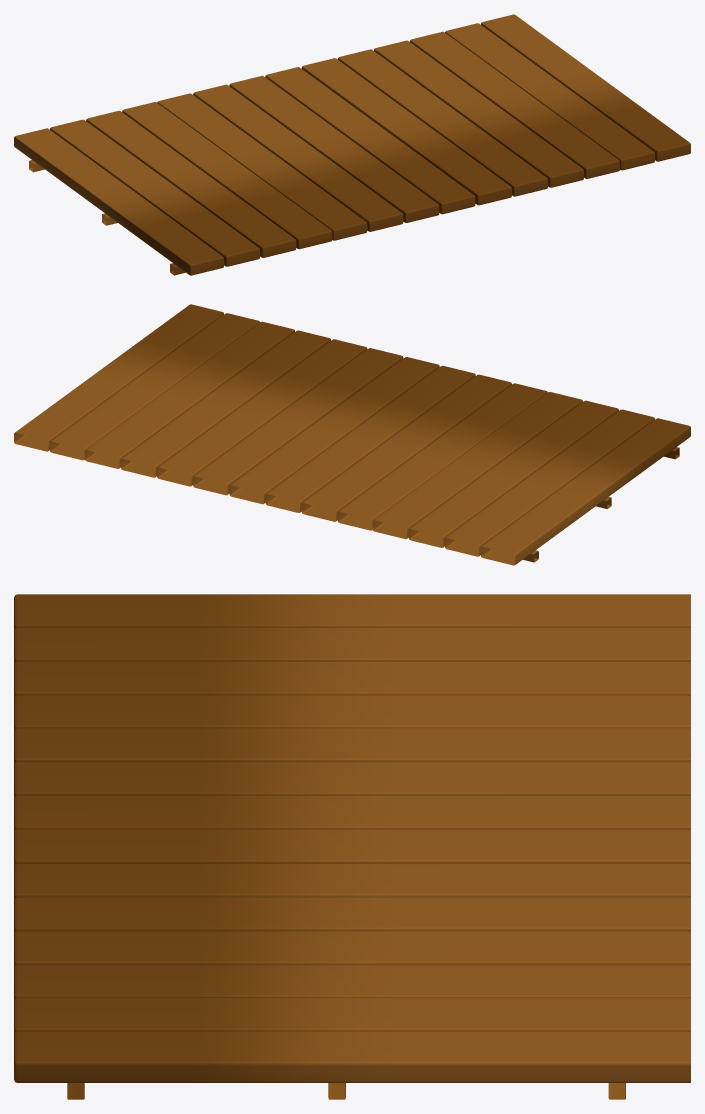
Rendered from SM_Planks_01.fbx.
3 renders of one model, top to bottom at view 1: azimuth 30°, elevation 25°; view 2: azimuth 150°, elevation 25°; view 3: azimuth 270°, elevation 25°, orthographic. The views are drawn at different scales.
Visible parts, largest first — view 1: SM_Planks_01; view 2: SM_Planks_01; view 3: SM_Planks_01.
Boxes of the visible parts, x1,y1,x2,y2 form: SM_Planks_01: (14,14,690,275); SM_Planks_01: (14,304,690,565); SM_Planks_01: (14,594,690,1099).
Bounding box in the file's own units: 657 × 24.96 × 399.
